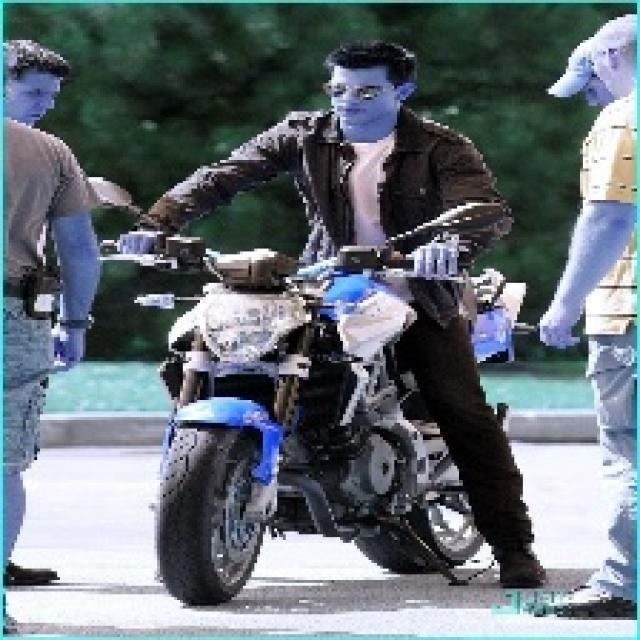motorcycle: (128, 238, 528, 614)
